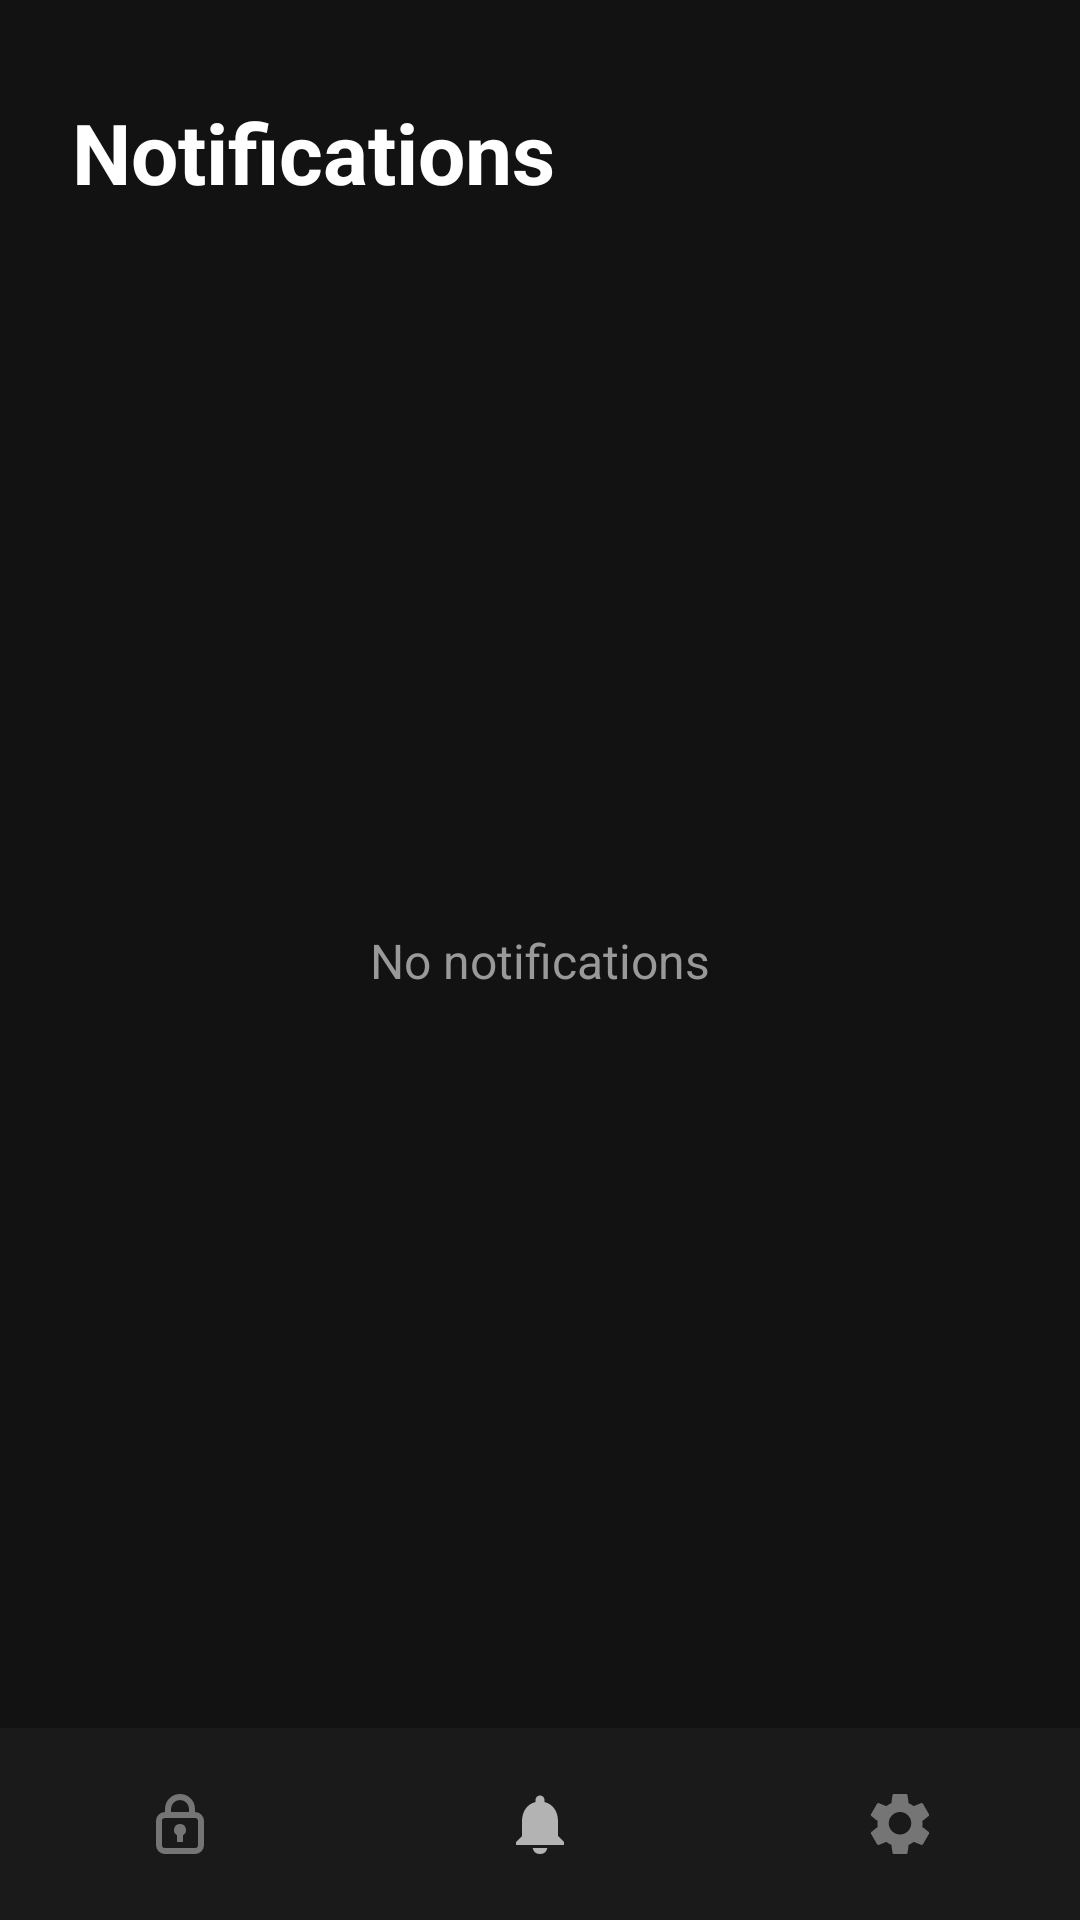

Icon bounding boxes for this 1080px x 1920px phone screenshot, format (x1, y1, x2, y2):
Credentials: (156, 1794, 204, 1854)
Notifications: (516, 1795, 564, 1854)
Settings: (871, 1794, 929, 1854)
